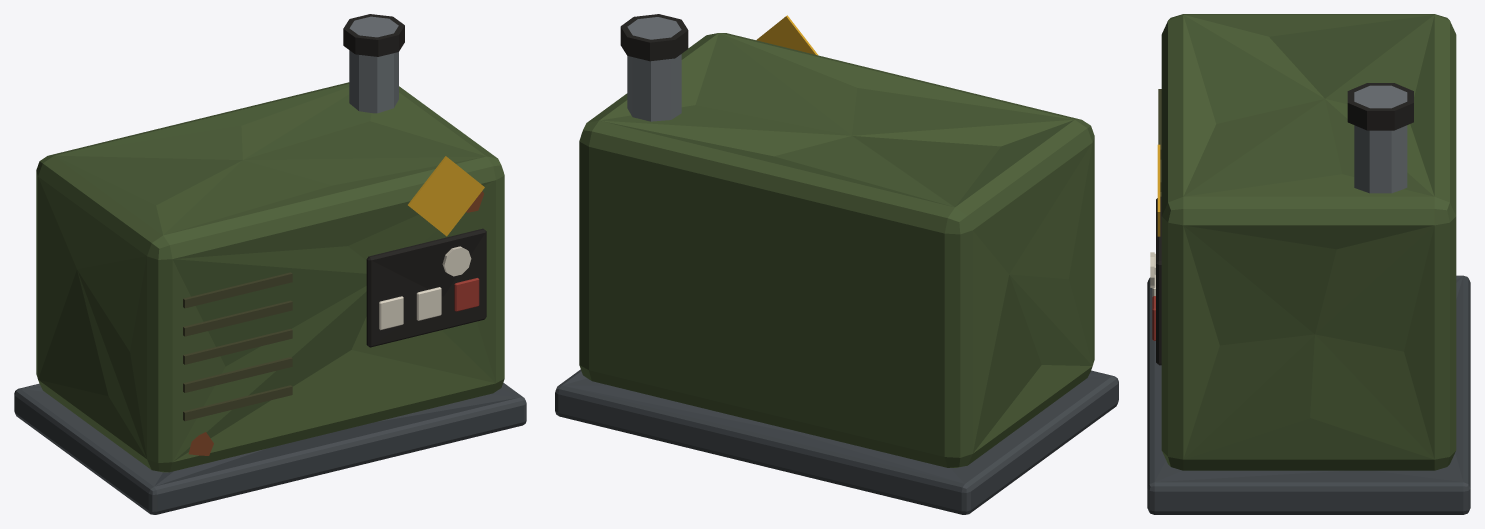
File: fuel_generator_statsionarnyy_idle.glb
The picture shows the model from 3 angles, left to right: view 1: azimuth 30°, elevation 25°; view 2: azimuth 150°, elevation 25°; view 3: azimuth 270°, elevation 25°; orthographic projection. The views are drawn at different scales.
Parts seen in each view (by area): view 1: fuel_generator_statsionarnyy_idle; view 2: fuel_generator_statsionarnyy_idle; view 3: fuel_generator_statsionarnyy_idle.
Boxes of the visible parts, x1,y1,x2,y2 form: fuel_generator_statsionarnyy_idle: [14, 14, 526, 514]; fuel_generator_statsionarnyy_idle: [555, 14, 1118, 514]; fuel_generator_statsionarnyy_idle: [1147, 14, 1470, 514].
Bounding box in the file's own units: 0.7 × 0.6 × 0.45.
Materials: 1 (1 with a texture image).
